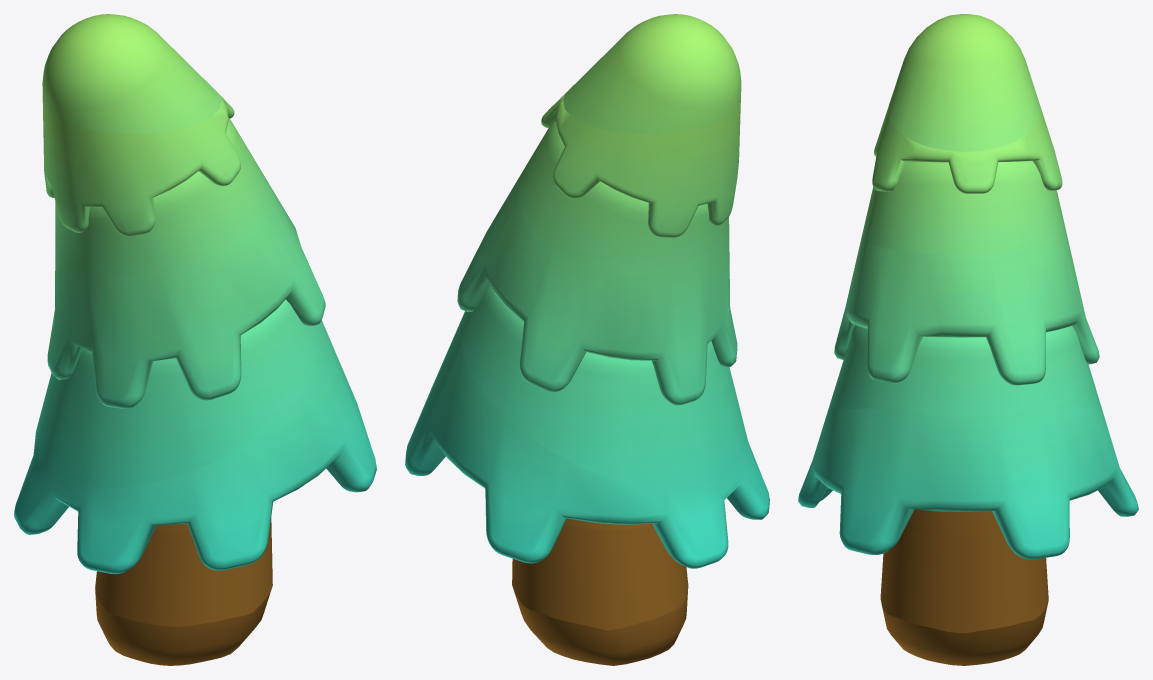
Rendered from tree3 100%.fbx.
The picture shows the model from 3 angles, left to right: view 1: azimuth 30°, elevation 25°; view 2: azimuth 150°, elevation 25°; view 3: azimuth 270°, elevation 25°; orthographic projection. The views are drawn at different scales.
Parts seen in each view (by area): view 1: Cylinder.027; view 2: Cylinder.027; view 3: Cylinder.027.
Part boxes in pixels (x1,y1,x2,y2): Cylinder.027: (14, 14, 376, 665); Cylinder.027: (405, 14, 769, 665); Cylinder.027: (798, 14, 1138, 665).
Bounding box in the file's own units: 81.72 × 166 × 85.92.
